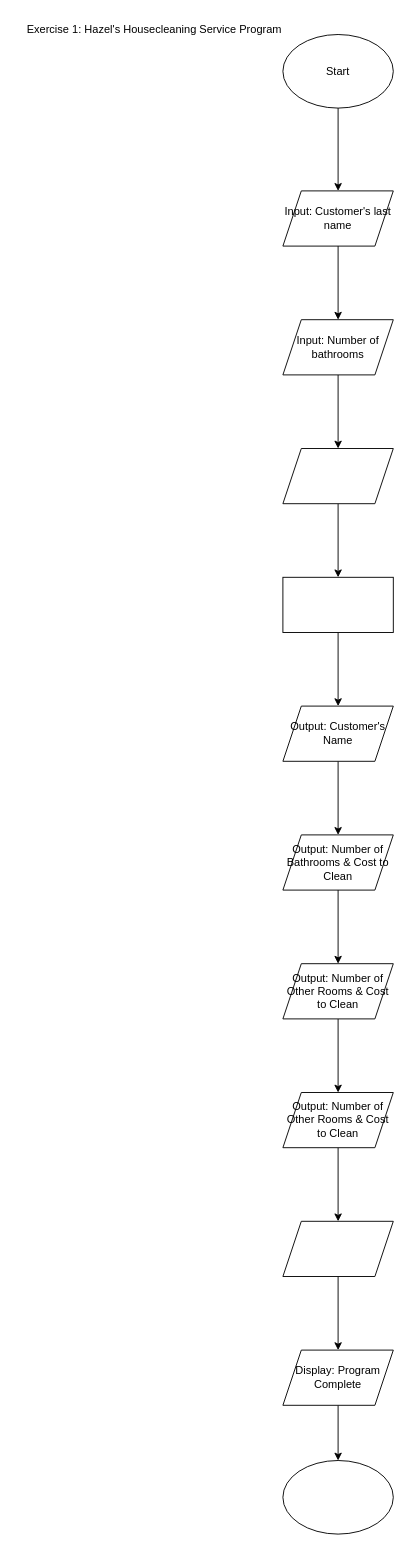
This 409x1550 diagram has some shape labels left out. The centre of each missing label's shape, as x and y in pixels:
Calculate: Service Charge = $40 + ($15 per bathroom) + ($10 per other room): the point at 337,604
End: the point at 337,1497
Input: Number of other rooms: the point at 337,476
Output: Total Cleaning Cost: the point at 337,1248
